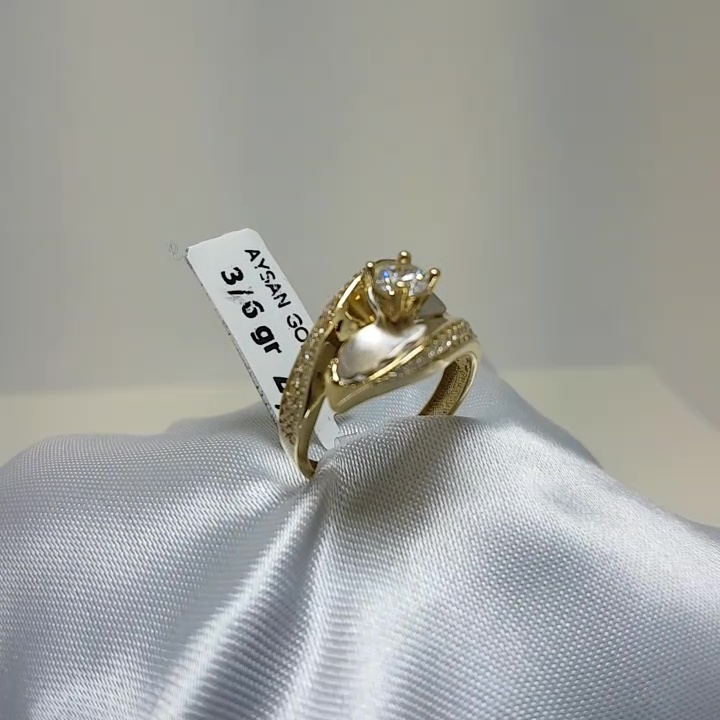Ring 6: (261, 228, 491, 476)
